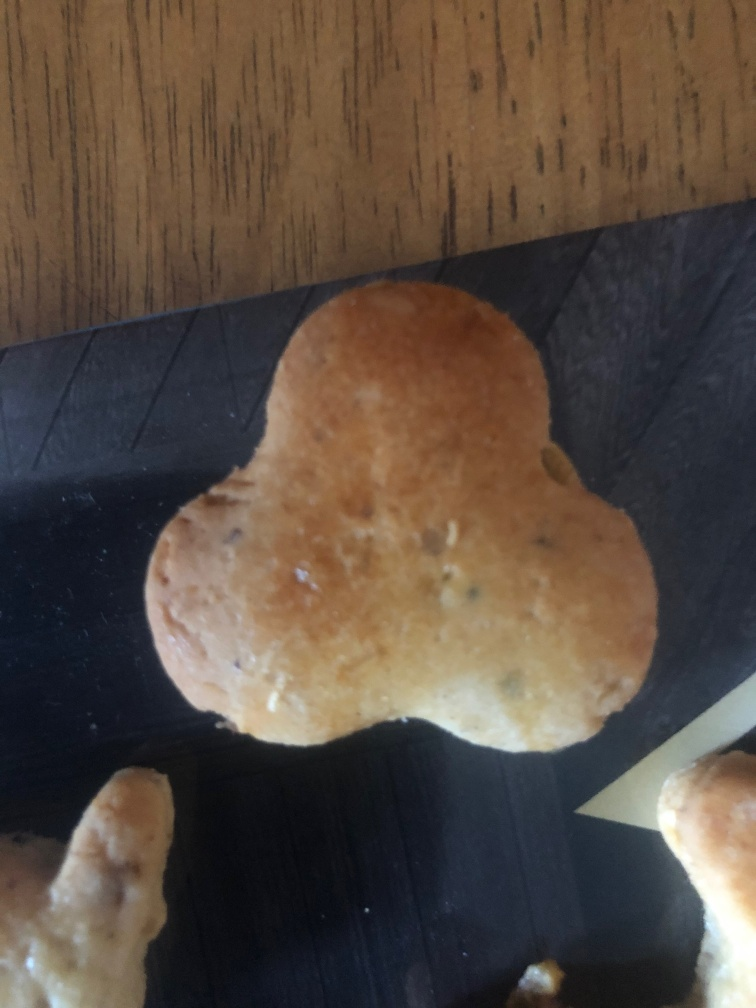flake: (128, 275, 664, 754)
